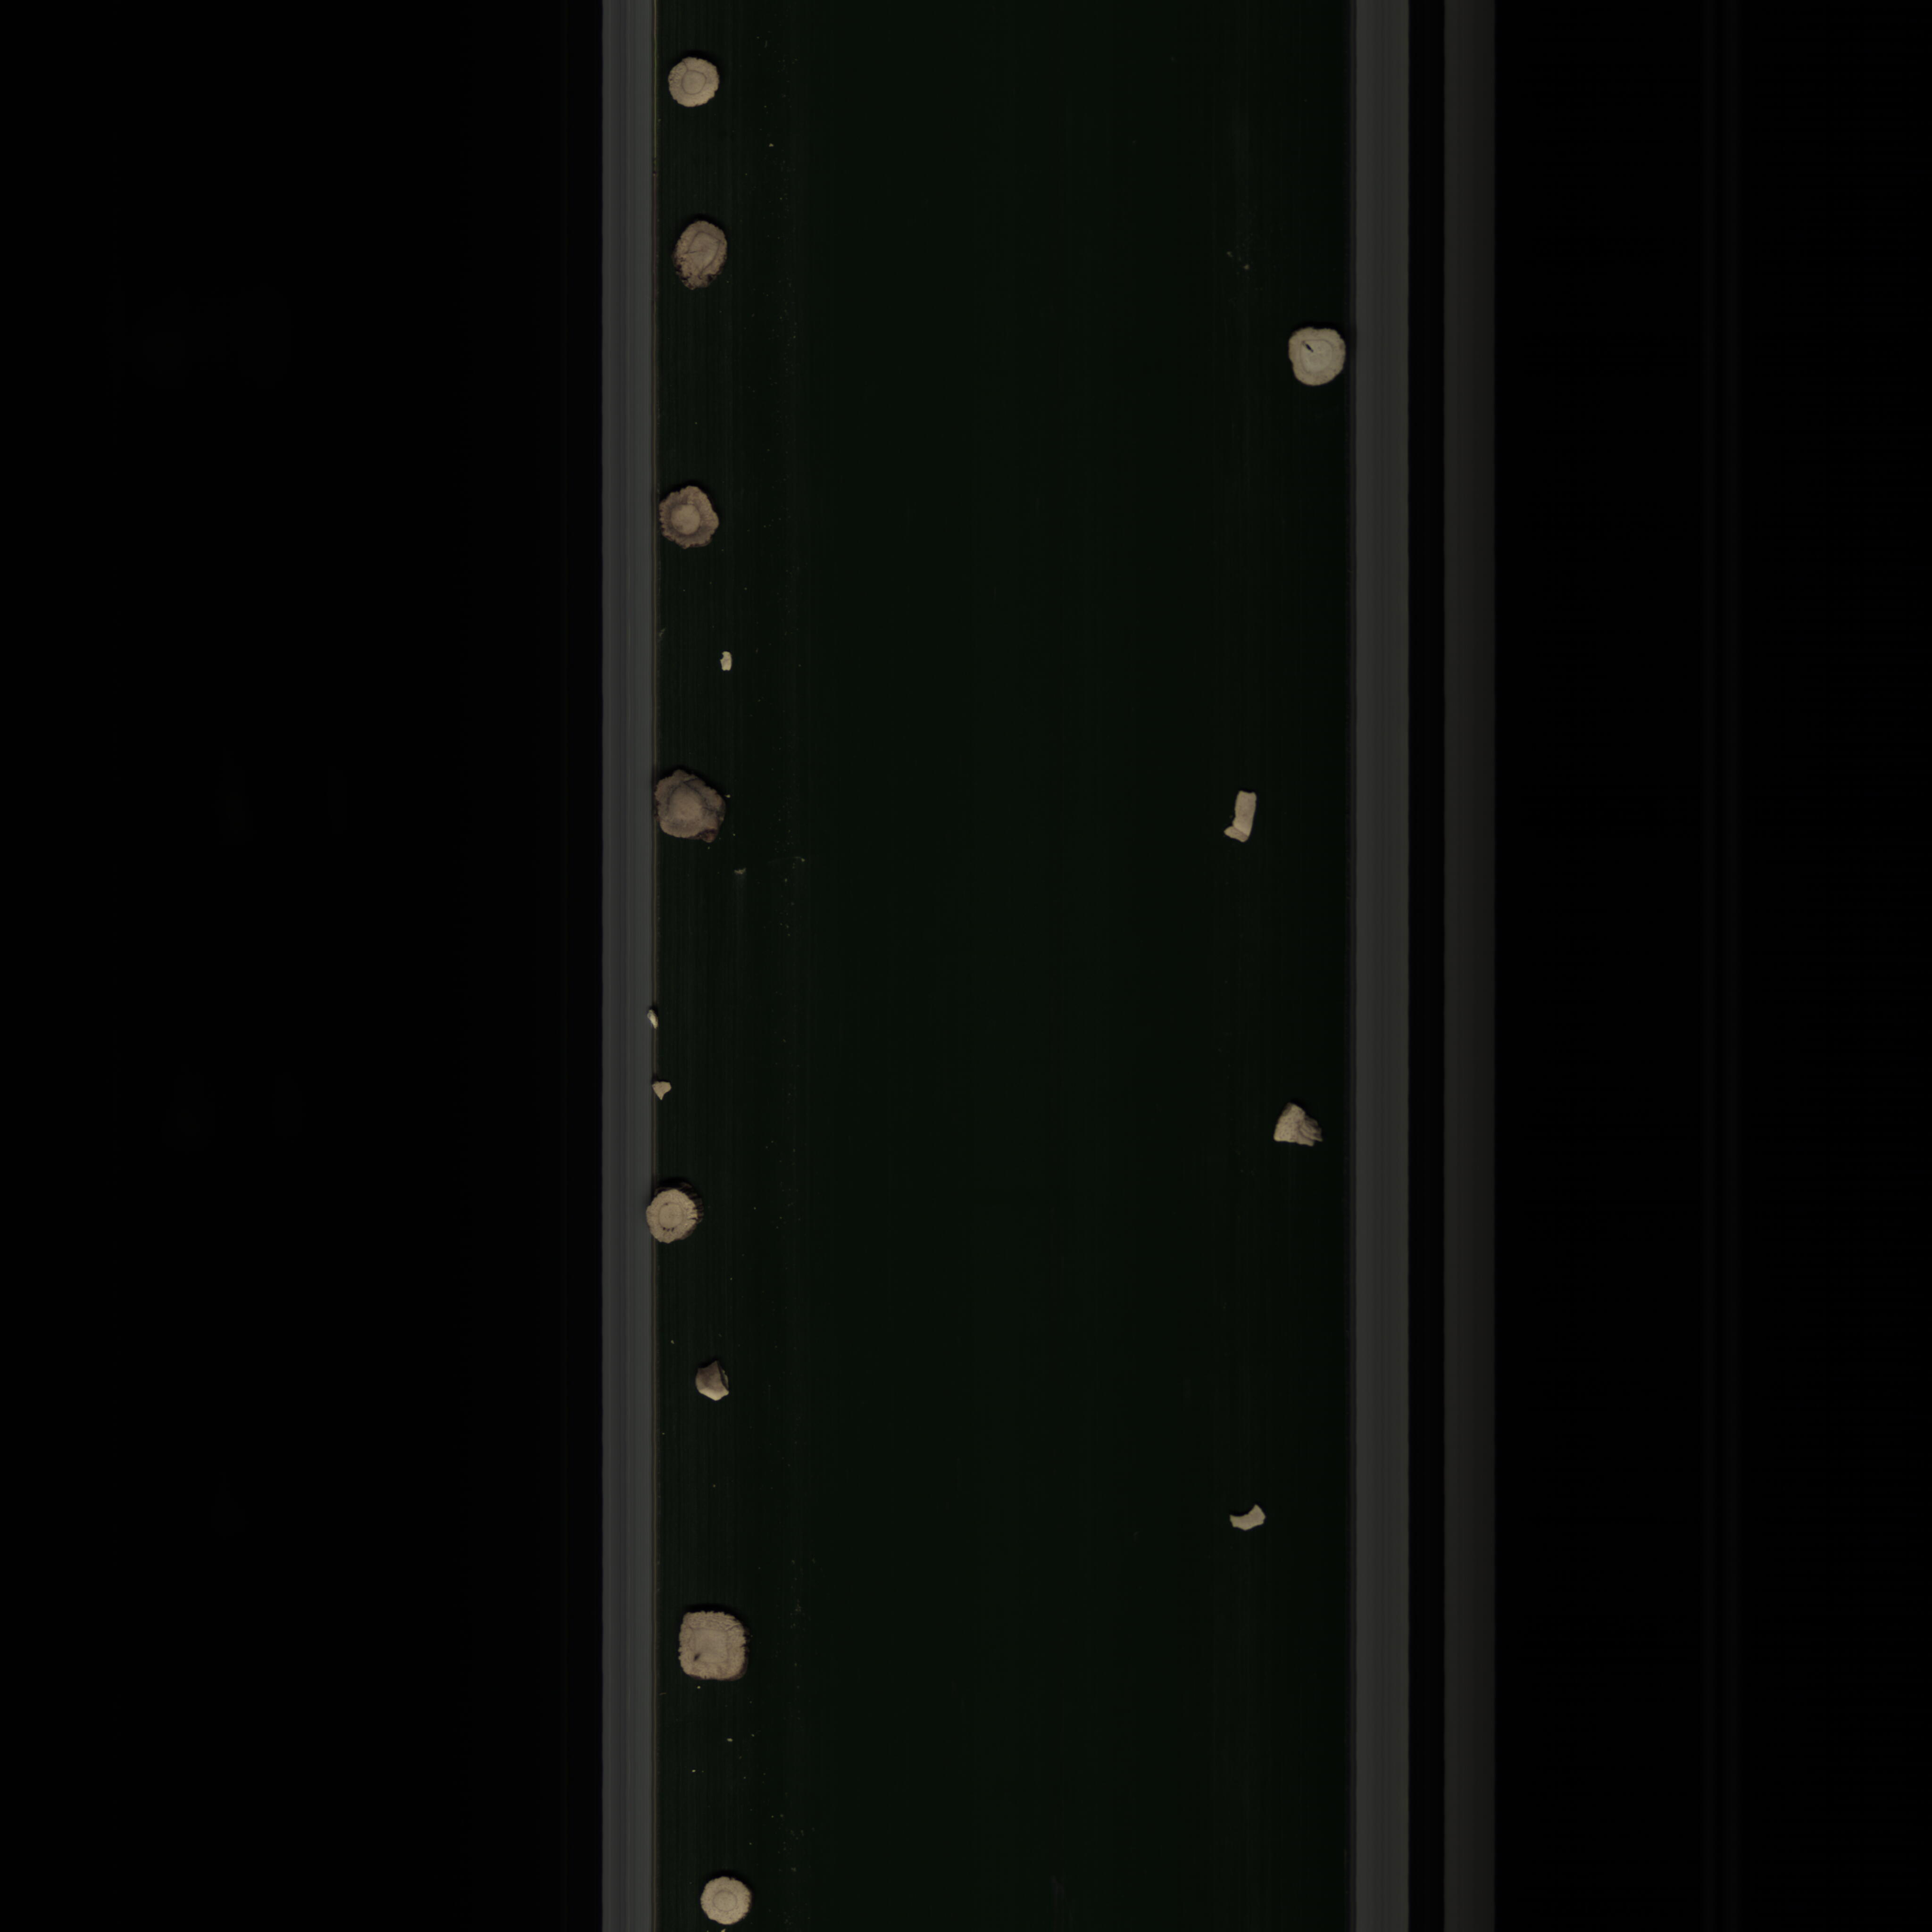debris: (1272, 1093, 1332, 1157), (1217, 784, 1269, 849), (688, 1353, 740, 1408), (1224, 1497, 1277, 1541)
hole: (1281, 318, 1352, 395)
moldy: (655, 476, 738, 566), (651, 770, 729, 851), (667, 214, 736, 290)
